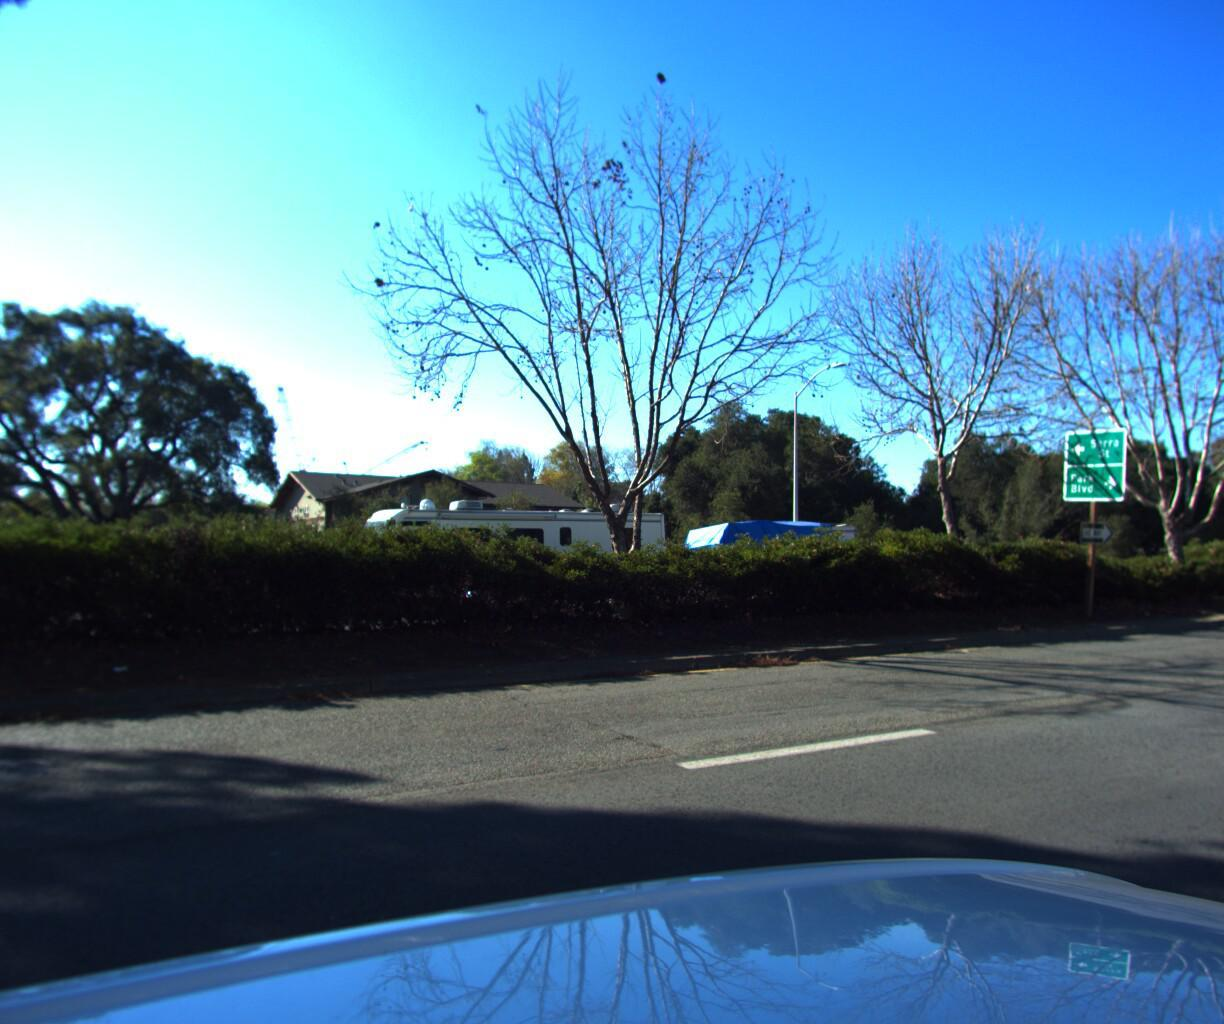other_vehicle: (336, 472, 681, 610), (673, 514, 867, 610)
